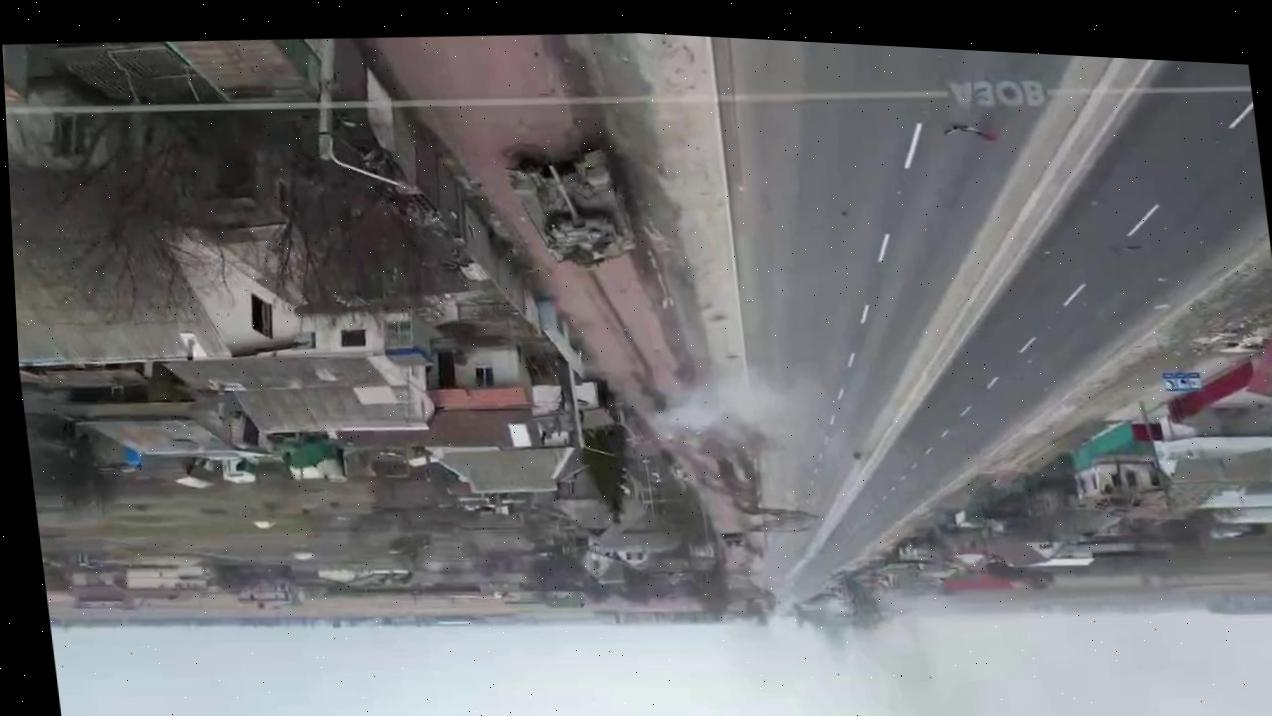tank: (500, 139, 640, 275)
